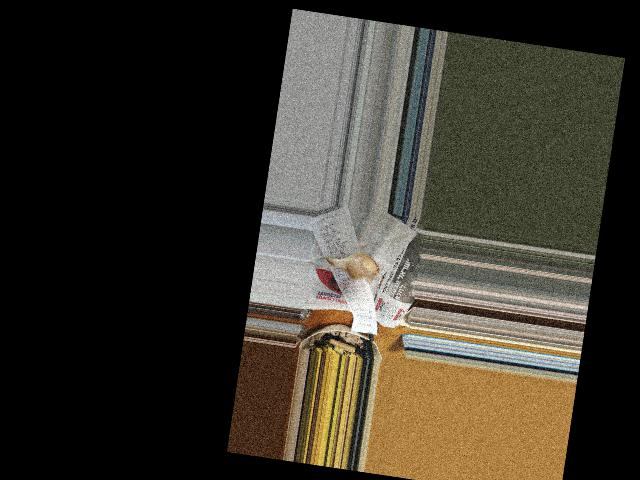onion: (329, 248, 381, 284)
